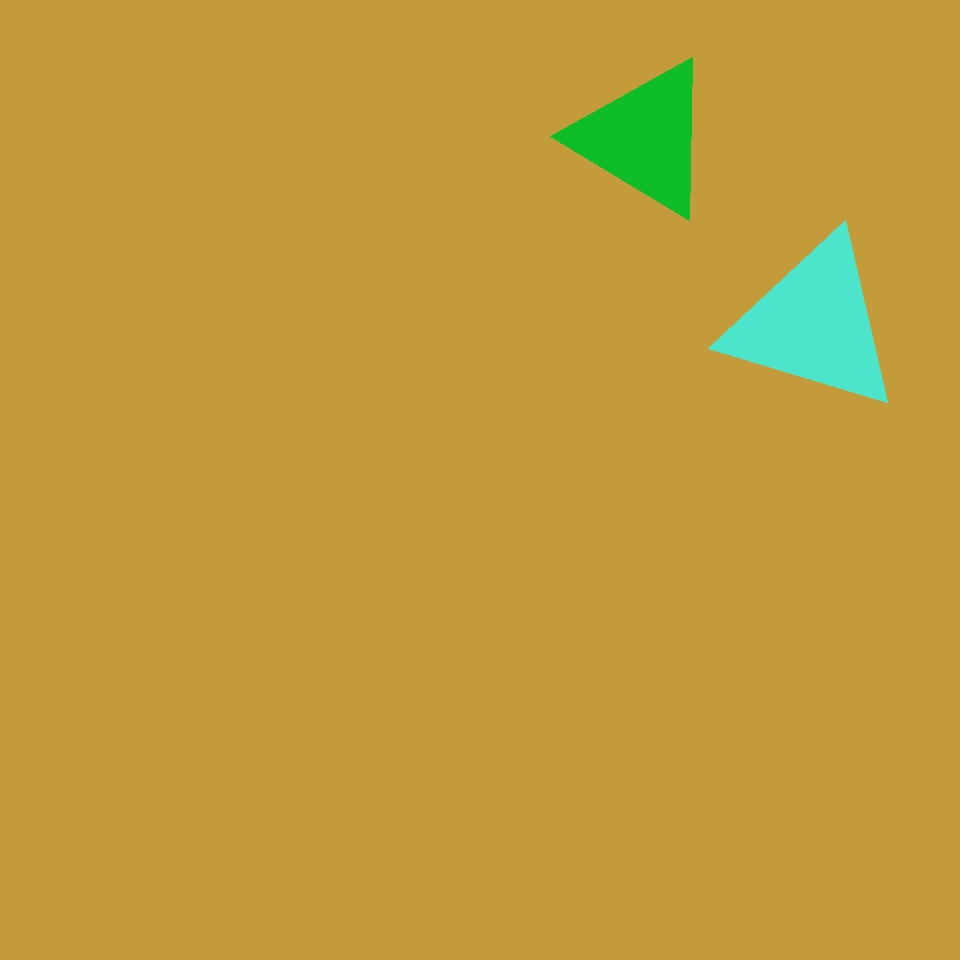circle: (724, 233, 904, 415), (573, 56, 715, 220), (583, 104, 708, 246), (28, 709, 110, 800)
square: (28, 74, 172, 218)
